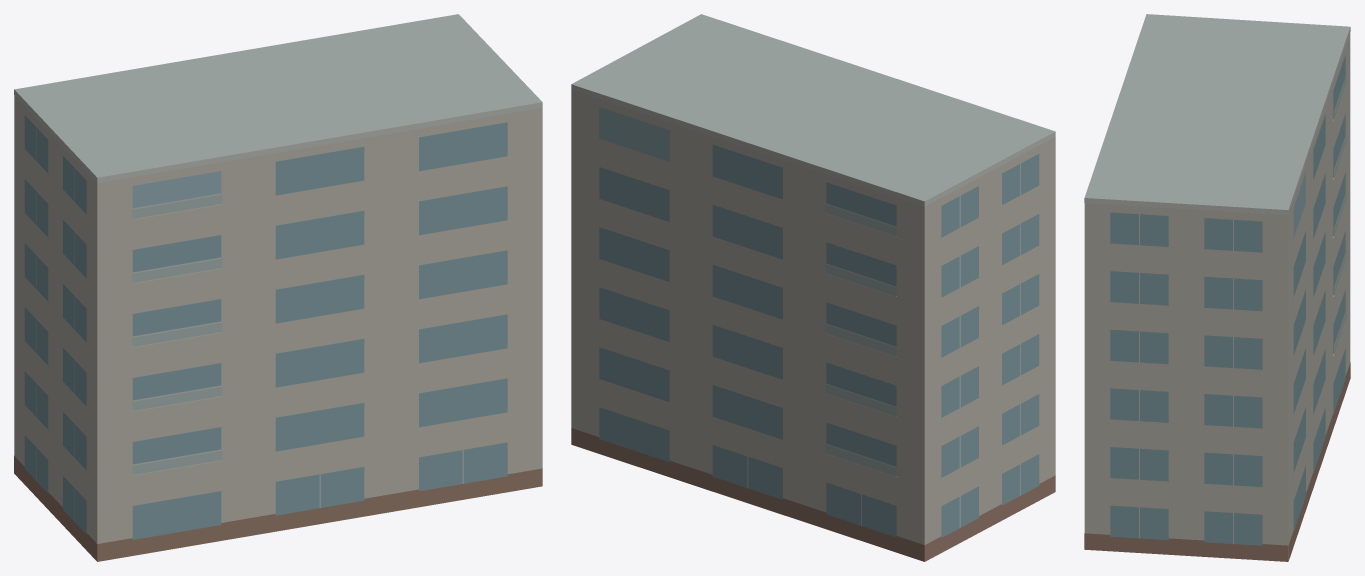
Rendered from survey-upis-32750569.glb.
The picture shows the model from 3 angles, left to right: view 1: azimuth 30°, elevation 25°; view 2: azimuth 150°, elevation 25°; view 3: azimuth 270°, elevation 25°; orthographic projection. The views are drawn at different scales.
Visible parts, largest first — view 1: survey-upis-32750569.tmp; view 2: survey-upis-32750569.tmp; view 3: survey-upis-32750569.tmp.
Part boxes in pixels (x1,y1,x2,y2): survey-upis-32750569.tmp: (14,14,542,561); survey-upis-32750569.tmp: (571,14,1055,561); survey-upis-32750569.tmp: (1084,14,1350,561).
Bounding box in the file's own units: 20.33 × 17 × 11.66.
